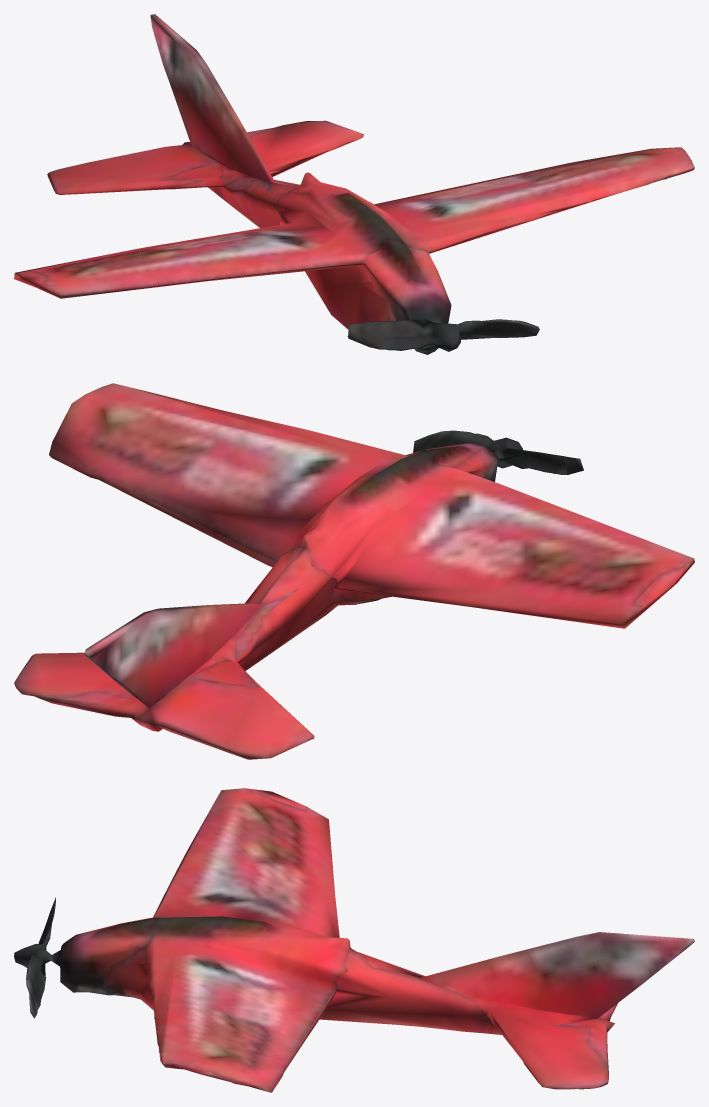
Rendered from Air_Hogs_Wind_Flyers_Set_Airplane_Red-medium.glb.
3 views of the same model, one above another, from view 1: azimuth 30°, elevation 25°; view 2: azimuth 150°, elevation 25°; view 3: azimuth 270°, elevation 25° (orthographic). The views are drawn at different scales.
Visible parts, largest first — view 1: Air_Hogs_Wind_Flyers_Set_Airplane_Red; view 2: Air_Hogs_Wind_Flyers_Set_Airplane_Red; view 3: Air_Hogs_Wind_Flyers_Set_Airplane_Red.
Boxes of the visible parts, left/top/right/bottom form: Air_Hogs_Wind_Flyers_Set_Airplane_Red: left=14, top=14, right=694, bottom=354; Air_Hogs_Wind_Flyers_Set_Airplane_Red: left=14, top=383, right=694, bottom=759; Air_Hogs_Wind_Flyers_Set_Airplane_Red: left=14, top=788, right=694, bottom=1092.
Bounding box in the file's own units: 0.2683 × 0.0499 × 0.2719.
Materials: 1 (1 with a texture image).
